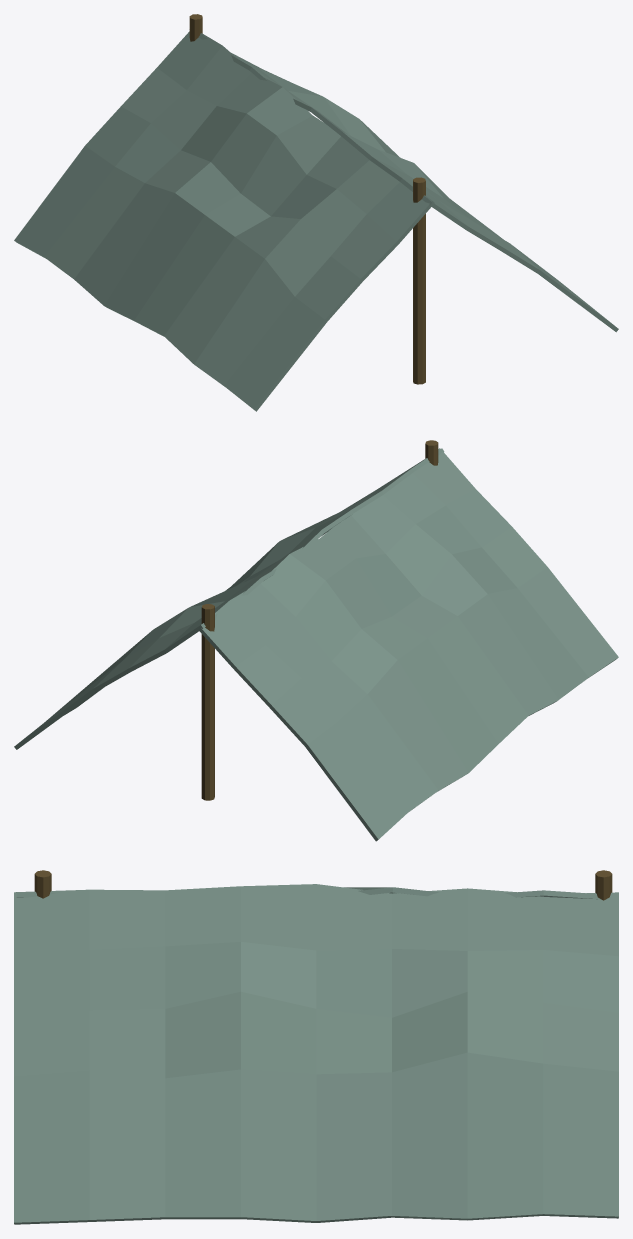
File: tente.fbx
3 views of the same model, one above another, from view 1: azimuth 30°, elevation 25°; view 2: azimuth 150°, elevation 25°; view 3: azimuth 270°, elevation 25° (orthographic). The views are drawn at different scales.
Parts seen in each view (by area): view 1: Plan.004; view 2: Plan.004; view 3: Plan.004.
Part boxes in pixels (x1,y1,x2,y2): Plan.004: (14,14,618,411); Plan.004: (14,440,618,841); Plan.004: (14,870,618,1224).
Bounding box in the file's own units: 391 × 207 × 448.
